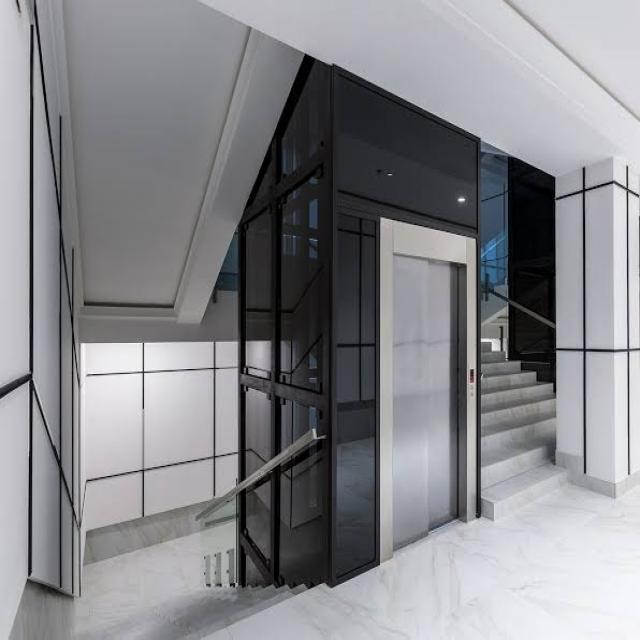elevator: (369, 203, 490, 577)
